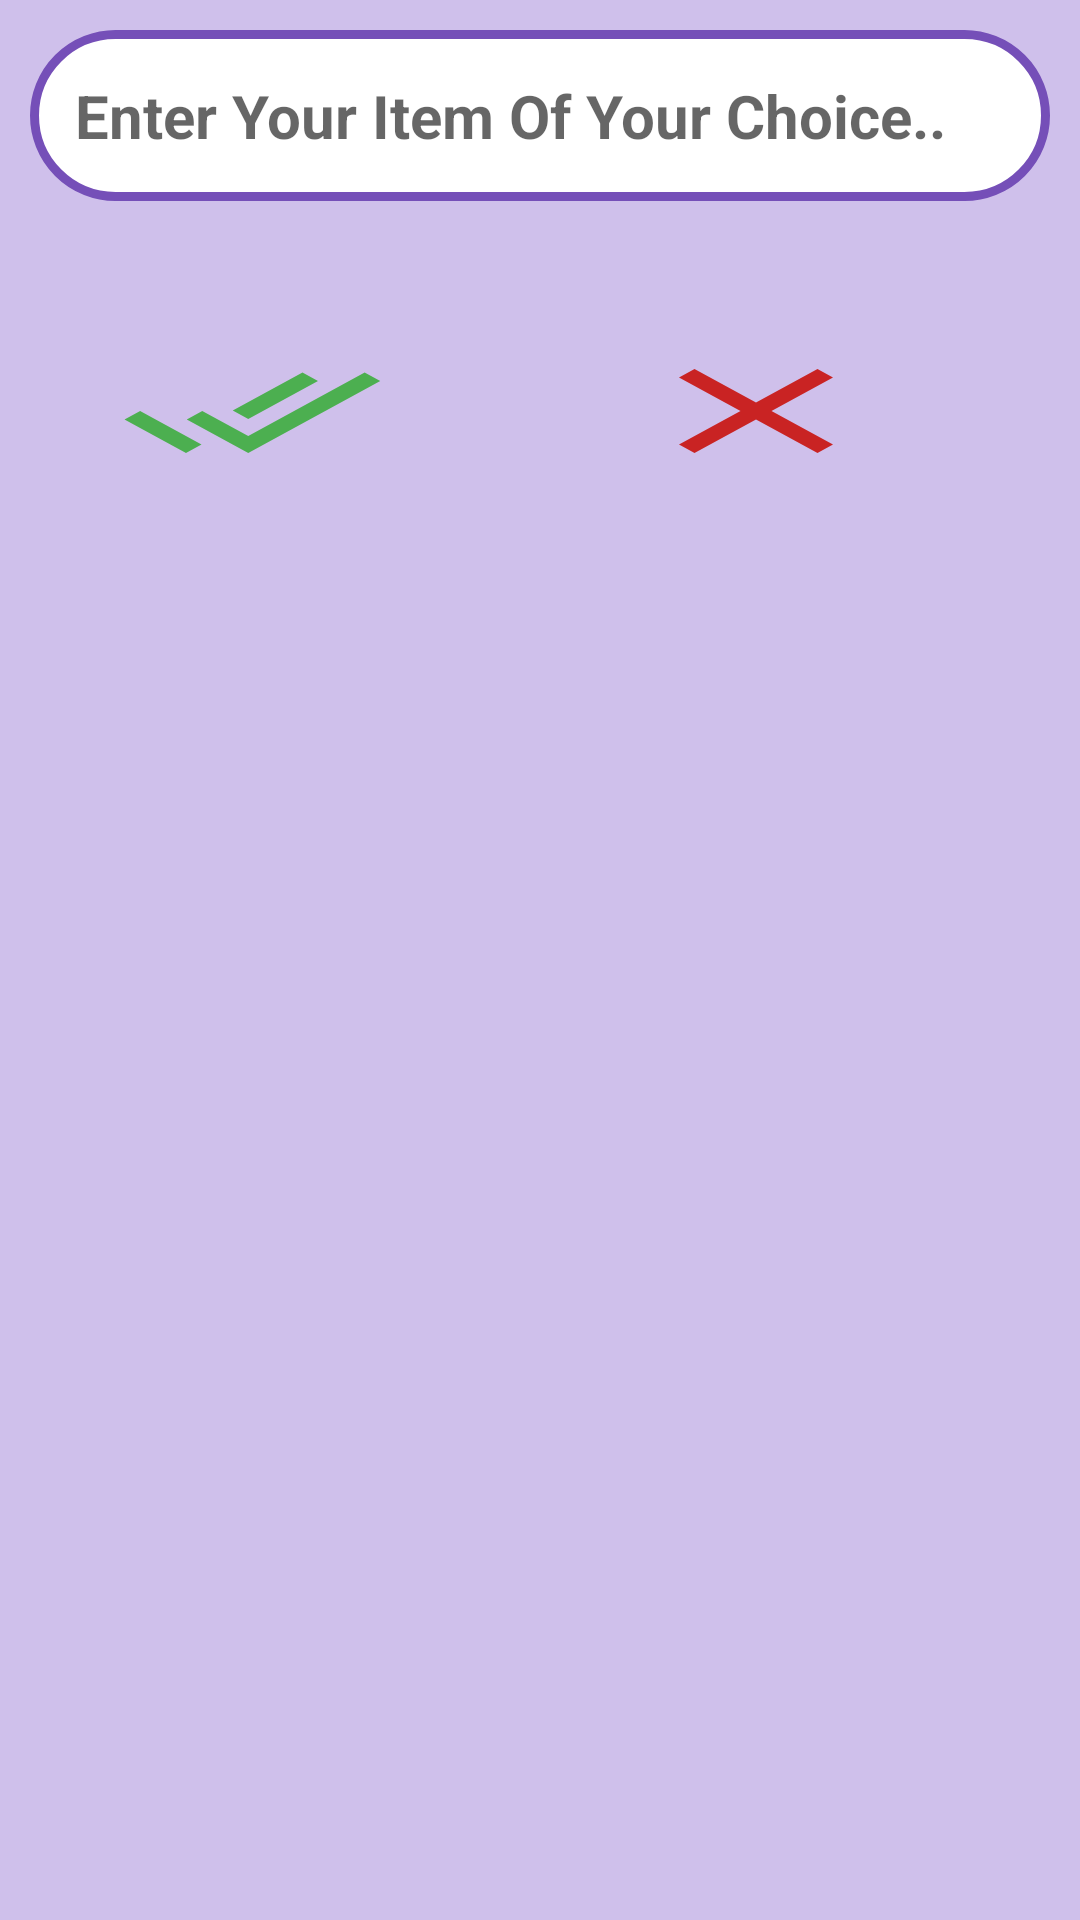

Where icons sit on this 1080 × 1920 app screen, as bbox=[x1, y1, x2, y2]:
close: bbox=[679, 369, 833, 453]
done all: bbox=[125, 372, 380, 453]
